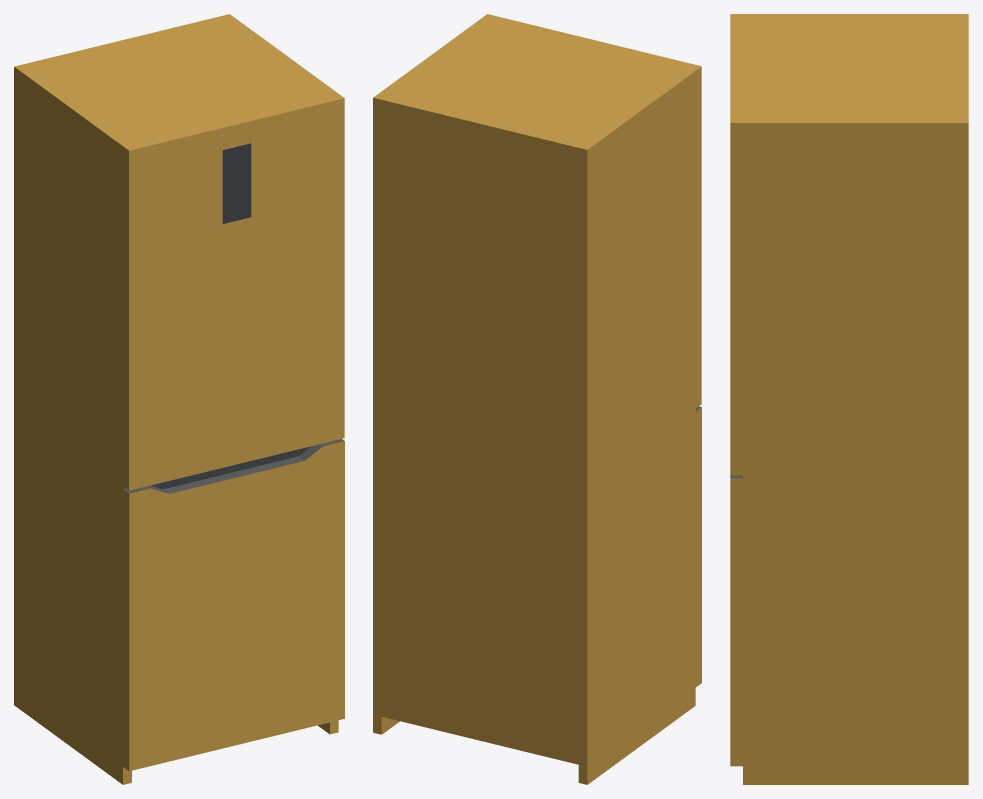
Rendered from fridge_01_D.gltf.
The picture shows the model from 3 angles, left to right: view 1: azimuth 30°, elevation 25°; view 2: azimuth 150°, elevation 25°; view 3: azimuth 270°, elevation 25°; orthographic projection. The views are drawn at different scales.
Parts seen in each view (by area): view 1: fridge_01_D, Doorfridgetop_01_D, Doorfridgebot_01_D; view 2: fridge_01_D, Doorfridgetop_01_D, Doorfridgebot_01_D; view 3: fridge_01_D, Doorfridgetop_01_D, Doorfridgebot_01_D.
Boxes of the visible parts, x1,y1,x2,y2 form: fridge_01_D: [14, 14, 338, 784]; Doorfridgetop_01_D: [123, 94, 344, 490]; Doorfridgebot_01_D: [123, 439, 344, 771]; fridge_01_D: [373, 18, 695, 784]; Doorfridgetop_01_D: [481, 14, 701, 408]; Doorfridgebot_01_D: [695, 406, 701, 687]; fridge_01_D: [743, 14, 968, 784]; Doorfridgetop_01_D: [730, 14, 742, 475]; Doorfridgebot_01_D: [730, 475, 742, 766].
Bounding box in the file's own units: 0.8 × 2.26 × 0.7399.
Materials: 1 (1 with a texture image).
